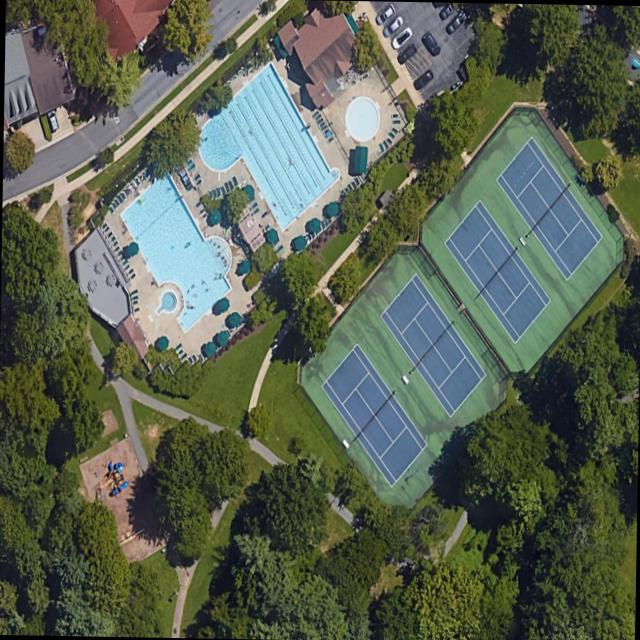small-vehicle: (390, 24, 414, 52), (445, 8, 468, 35), (381, 13, 404, 39), (422, 29, 442, 56), (412, 67, 433, 92), (376, 3, 396, 25), (397, 43, 416, 65), (47, 108, 61, 131)
